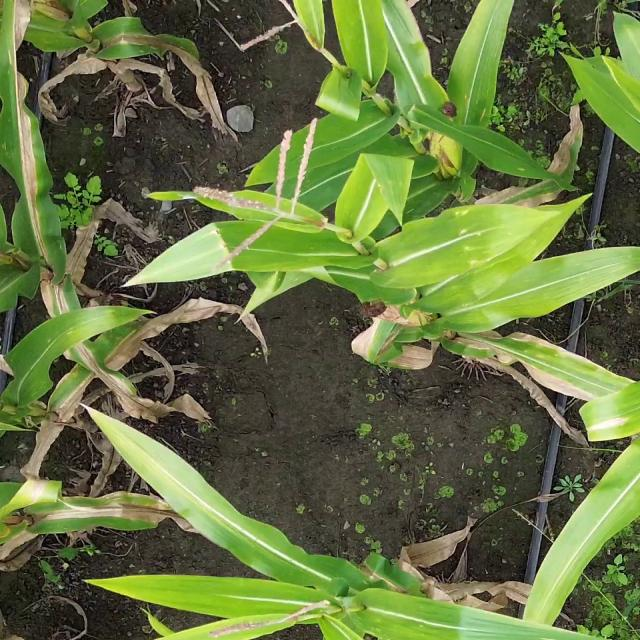northern-leaf-blight: (0, 4, 69, 297), (472, 321, 640, 440), (45, 487, 190, 541)
southern-leaf-blight: (436, 197, 562, 276), (348, 588, 472, 640)
